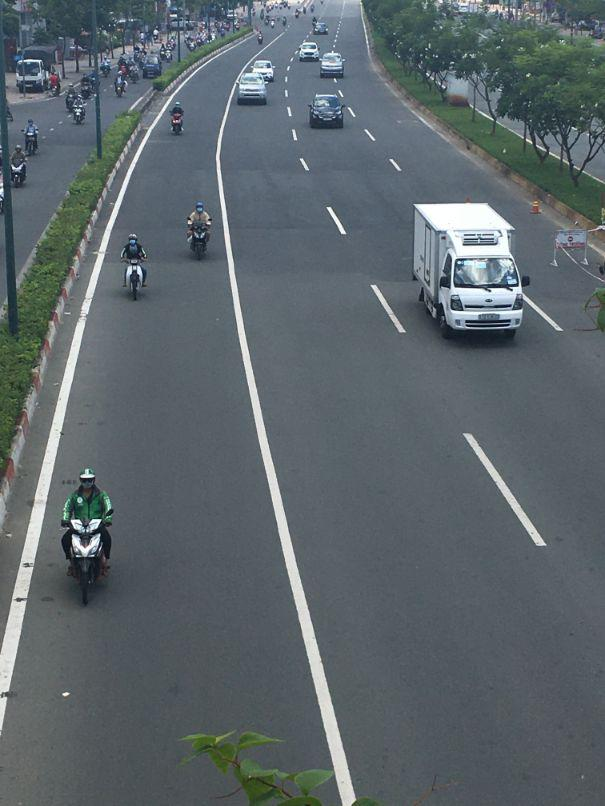car: (307, 93, 343, 127), (238, 72, 270, 106), (320, 54, 345, 79), (253, 61, 273, 84), (298, 45, 319, 64), (315, 22, 328, 35)
motorbike: (64, 519, 110, 604), (185, 217, 211, 261), (125, 262, 144, 300), (11, 146, 29, 186), (24, 119, 39, 154), (170, 108, 185, 133), (115, 71, 129, 96)
truck: (412, 202, 525, 340)
